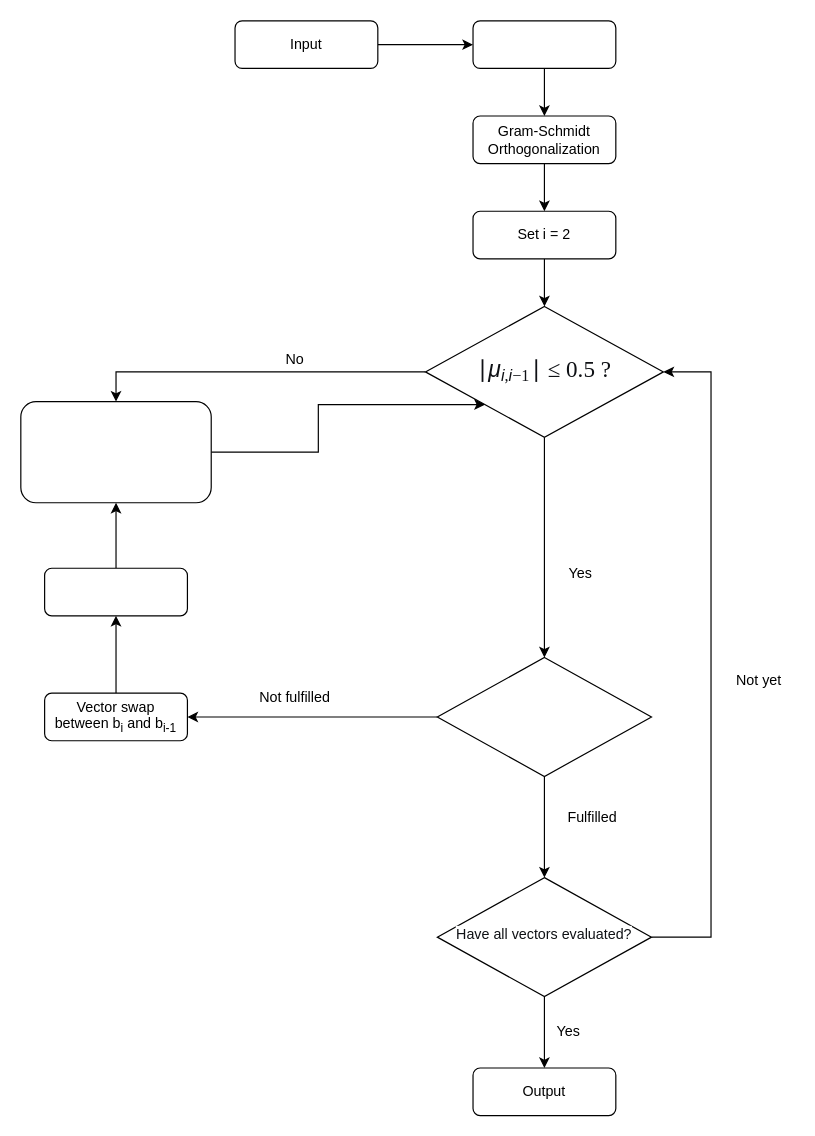
Some shapes in this 815 by 1136 pixel diagram are drawn without their labels. Each missing label, with the centre of its shape:
Basis reduction b i ← b i - ⌊ μ i, i-1 ⌉b i-1: (x=115, y=451)
i = i-1: (x=115, y=591)
Initialization: (x=544, y=44)
Lovasz Condition checking: (x=544, y=716)
